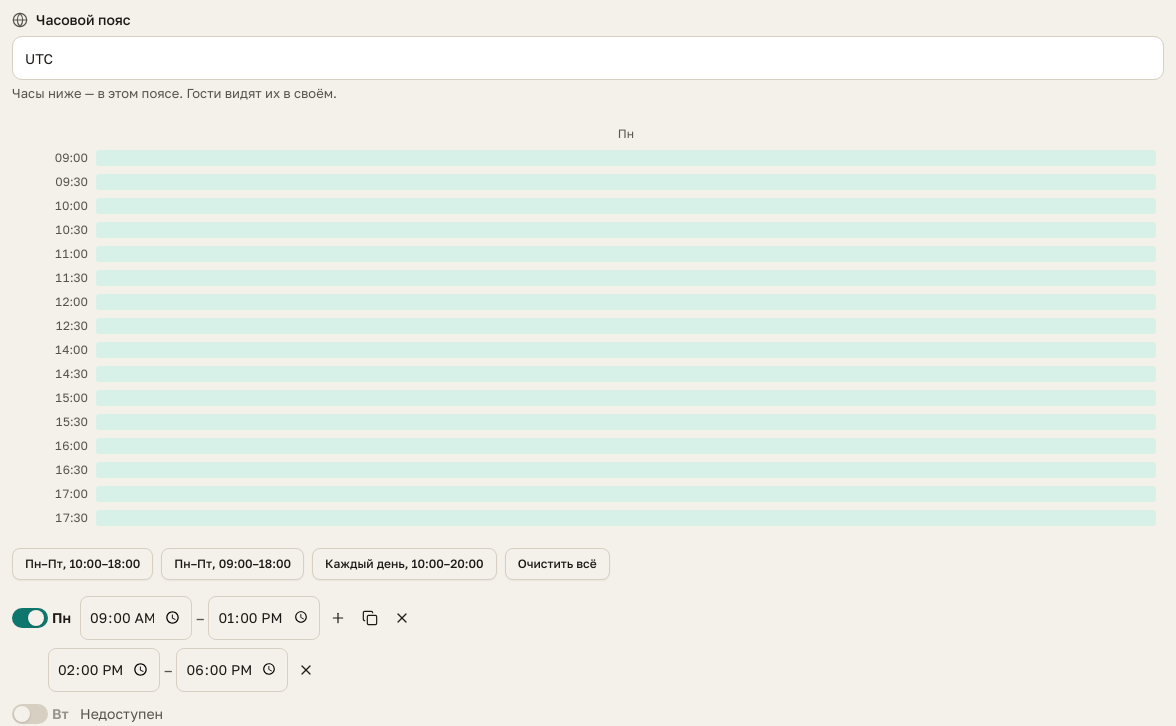
Test: AvailabilitySettingsForm › удаляет выбранный интервал, не трогая остальные
This screenshot has width=1176, height=726.
Click the button named "Убрать интервал: Пн 1": [402, 618] box [388,604,416,632]
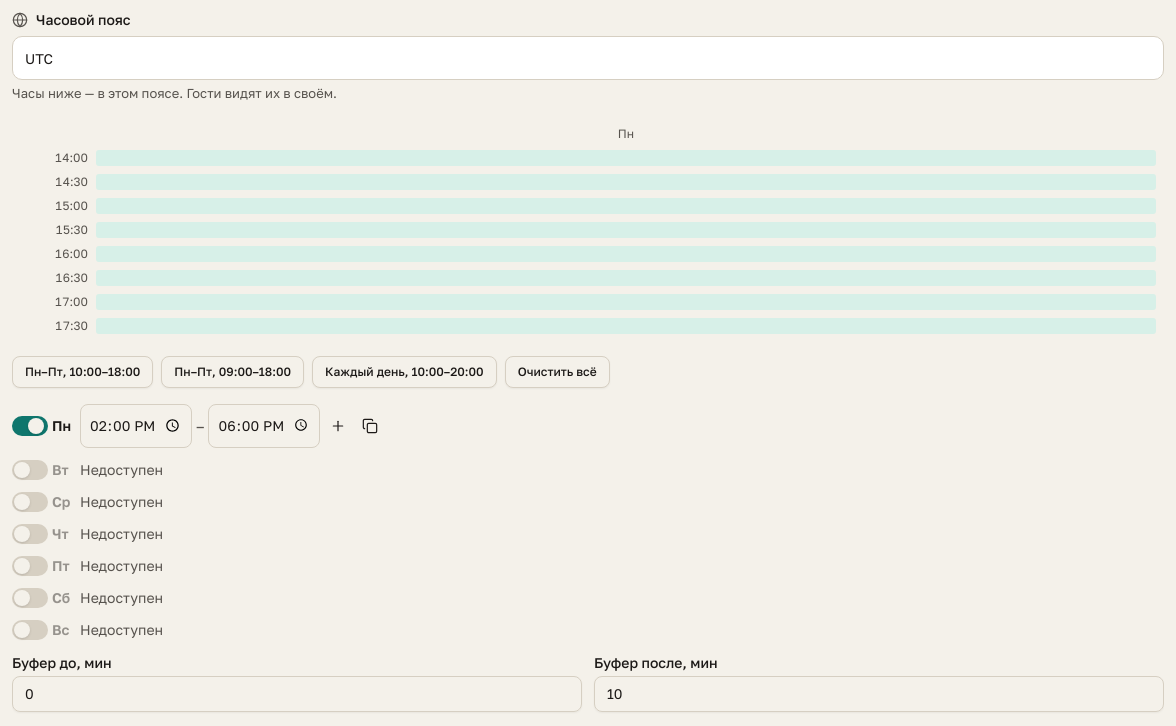
Result: the time field named "Пн: начало 1" holds "14:00" at [80,404,192,448]
